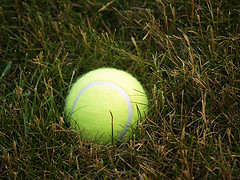tennis ball: (63, 66, 149, 141)
